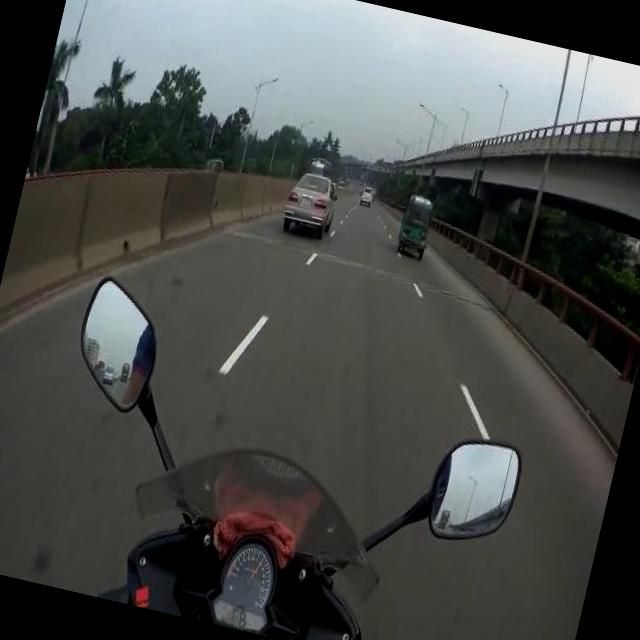car: (278, 166, 346, 247)
motorcycle: (393, 188, 441, 262)
